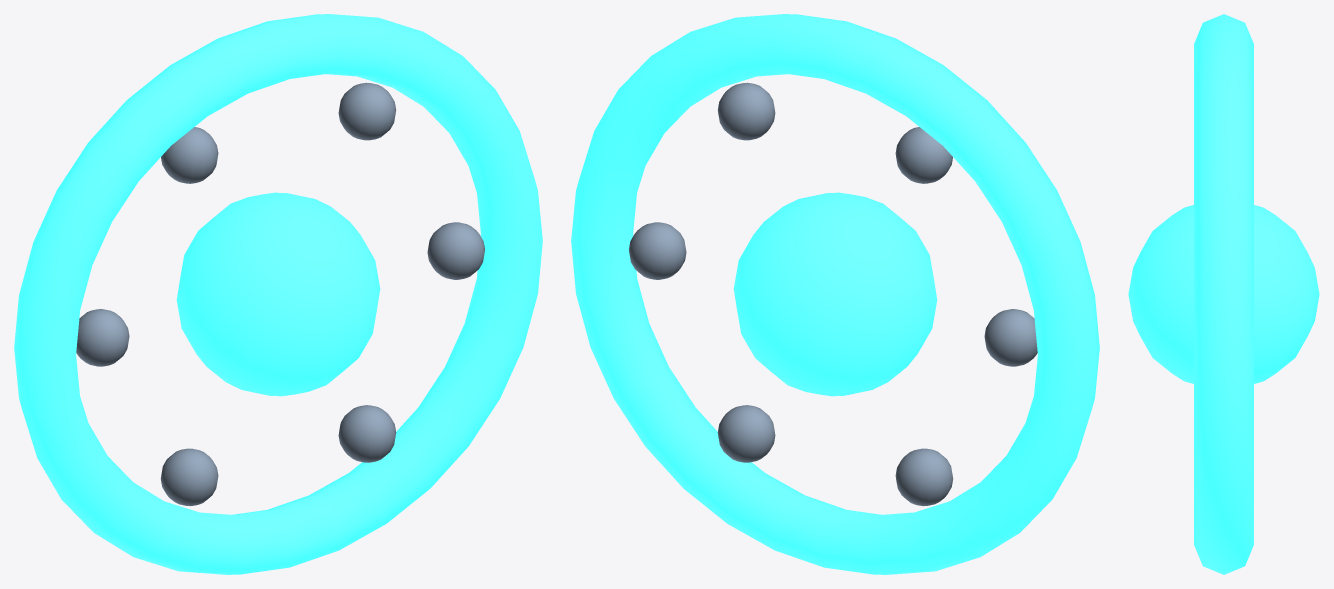
The model's file is pickup.glb.
The picture shows the model from 3 angles, left to right: view 1: azimuth 30°, elevation 25°; view 2: azimuth 150°, elevation 25°; view 3: azimuth 270°, elevation 25°; orthographic projection. The views are drawn at different scales.
Visible parts, largest first — view 1: time-energy ring, energy core, orbital bead 5, orbital bead 0, orbital bead 1, orbital bead 4, orbital bead 3, orbital bead 2; view 2: time-energy ring, energy core, orbital bead 5, orbital bead 0, orbital bead 1, orbital bead 4, orbital bead 3, orbital bead 2; view 3: time-energy ring, energy core.
Part boxes in pixels (box(x1,y1,x2,y2)): time-energy ring: box(14, 14, 542, 574); energy core: box(176, 192, 380, 396); orbital bead 5: box(338, 405, 396, 462); orbital bead 0: box(427, 222, 484, 279); orbital bead 1: box(338, 82, 396, 140); orbital bead 4: box(160, 448, 218, 506); orbital bead 3: box(76, 309, 129, 366); orbital bead 2: box(161, 127, 218, 183); time-energy ring: box(571, 14, 1099, 574); energy core: box(733, 192, 937, 396); orbital bead 5: box(717, 405, 775, 462); orbital bead 0: box(629, 222, 686, 279); orbital bead 1: box(717, 82, 775, 140); orbital bead 4: box(895, 448, 953, 506); orbital bead 3: box(984, 309, 1037, 366); orbital bead 2: box(895, 127, 952, 183); time-energy ring: box(1194, 14, 1253, 574); energy core: box(1128, 205, 1319, 383).
Size of the model in its own units: 1.41 by 1.41 by 0.48.
